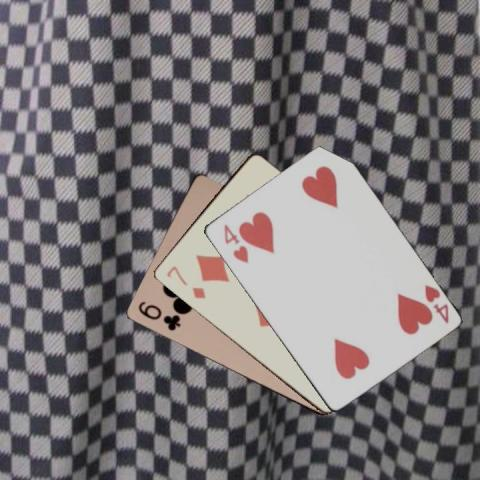4h: (220, 221, 250, 265), (421, 281, 450, 325)
6c: (135, 298, 182, 333)
7d: (163, 262, 207, 300)
